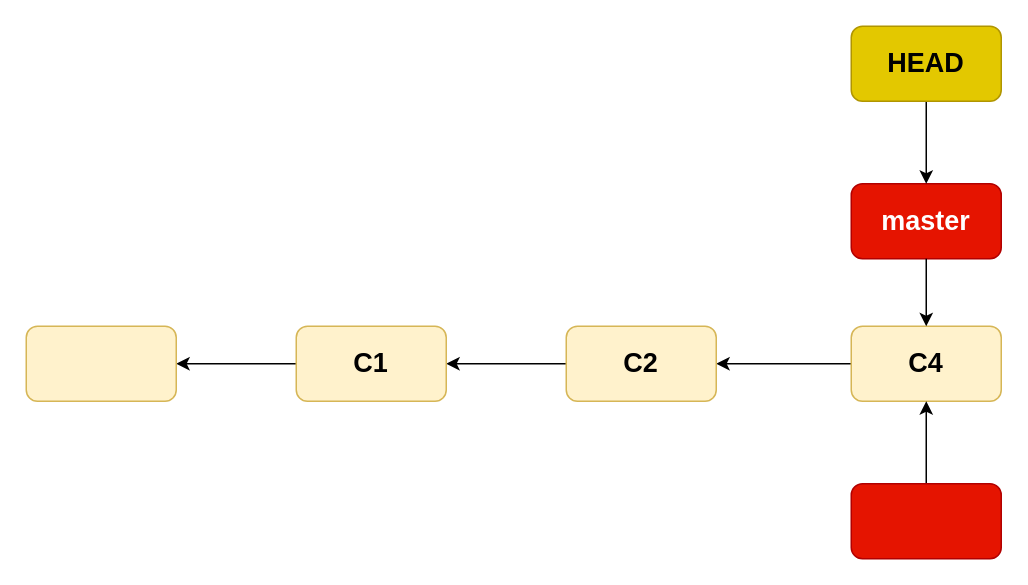
Some shapes in this 1028 by 585 pixel diagram are drawn without their labels. The box of each missing label's shape, as (x1, y1, x2, y2) in pixels:
bug_fix: (850, 482, 1001, 559)
C0: (25, 325, 176, 401)
